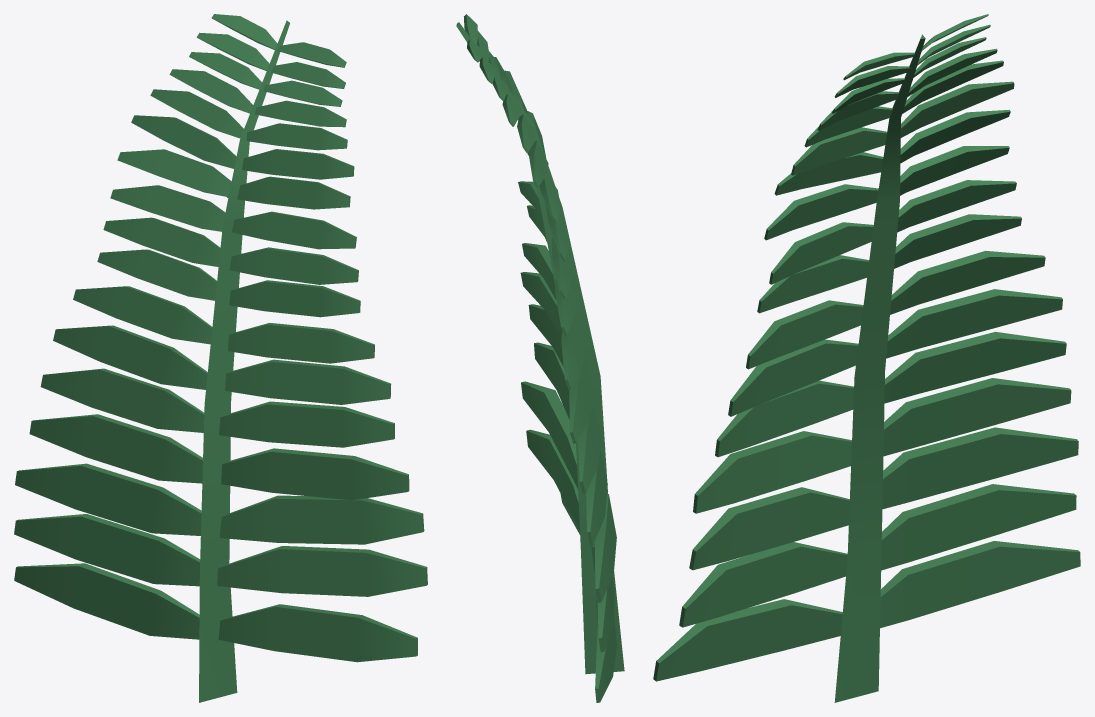
Rendered from tropical_small05_fern.fbx.
3 views of the same model, side by side, from view 1: azimuth 30°, elevation 25°; view 2: azimuth 150°, elevation 25°; view 3: azimuth 270°, elevation 25° (orthographic). The views are drawn at different scales.
Parts seen in each view (by area): view 1: tropical_small05_fern; view 2: tropical_small05_fern; view 3: tropical_small05_fern.
Part boxes in pixels (x1,y1,x2,y2): tropical_small05_fern: [14, 14, 427, 702]; tropical_small05_fern: [456, 14, 624, 702]; tropical_small05_fern: [653, 14, 1080, 702].
Size of the model in its own units: 0.0601 by 0.1466 by 0.0788.
